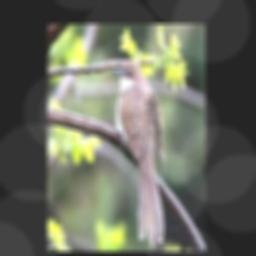Cuckoo: (112, 60, 167, 248)
